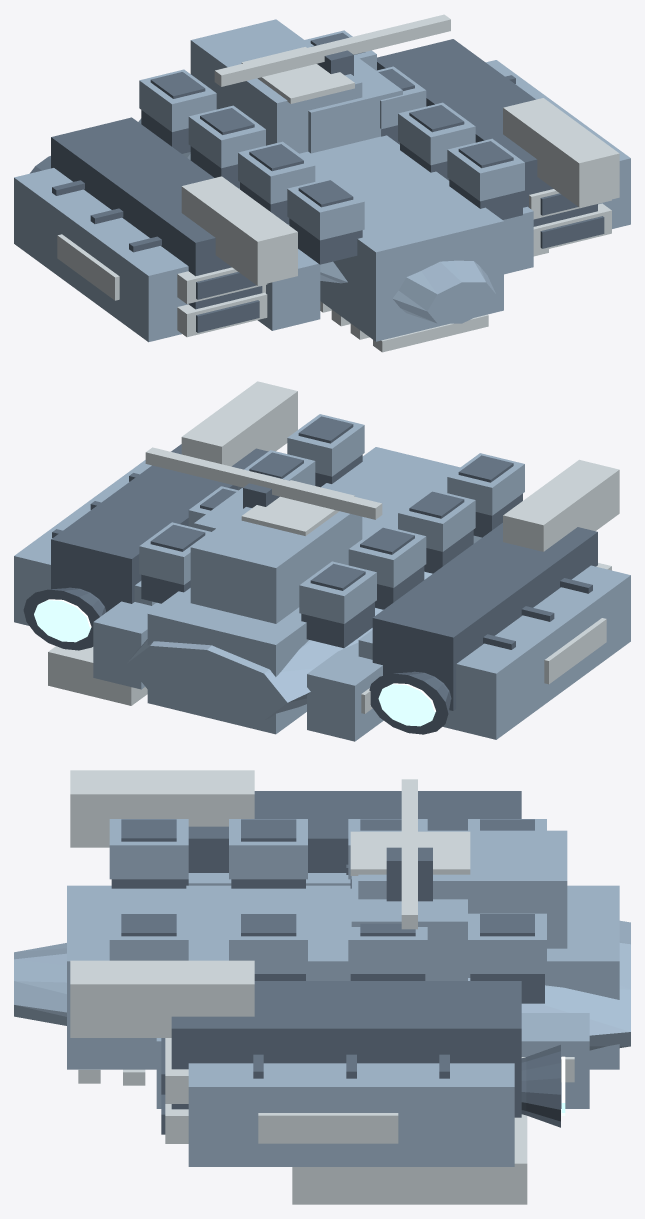
The picture shows the model from 3 angles, top to bottom: view 1: azimuth 30°, elevation 25°; view 2: azimuth 150°, elevation 25°; view 3: azimuth 270°, elevation 25°; orthographic projection. The views are drawn at different scales.
Bounding box in the file's own units: 18.41 × 7.63 × 16.53.
